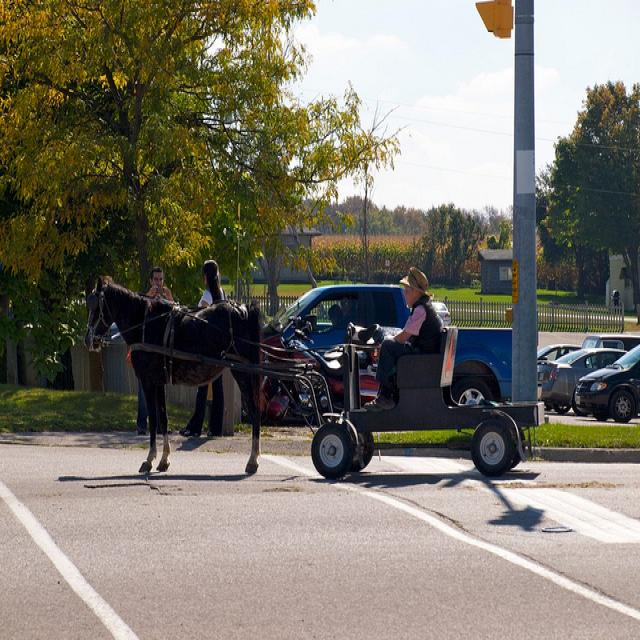motor: (261, 323, 402, 422)
